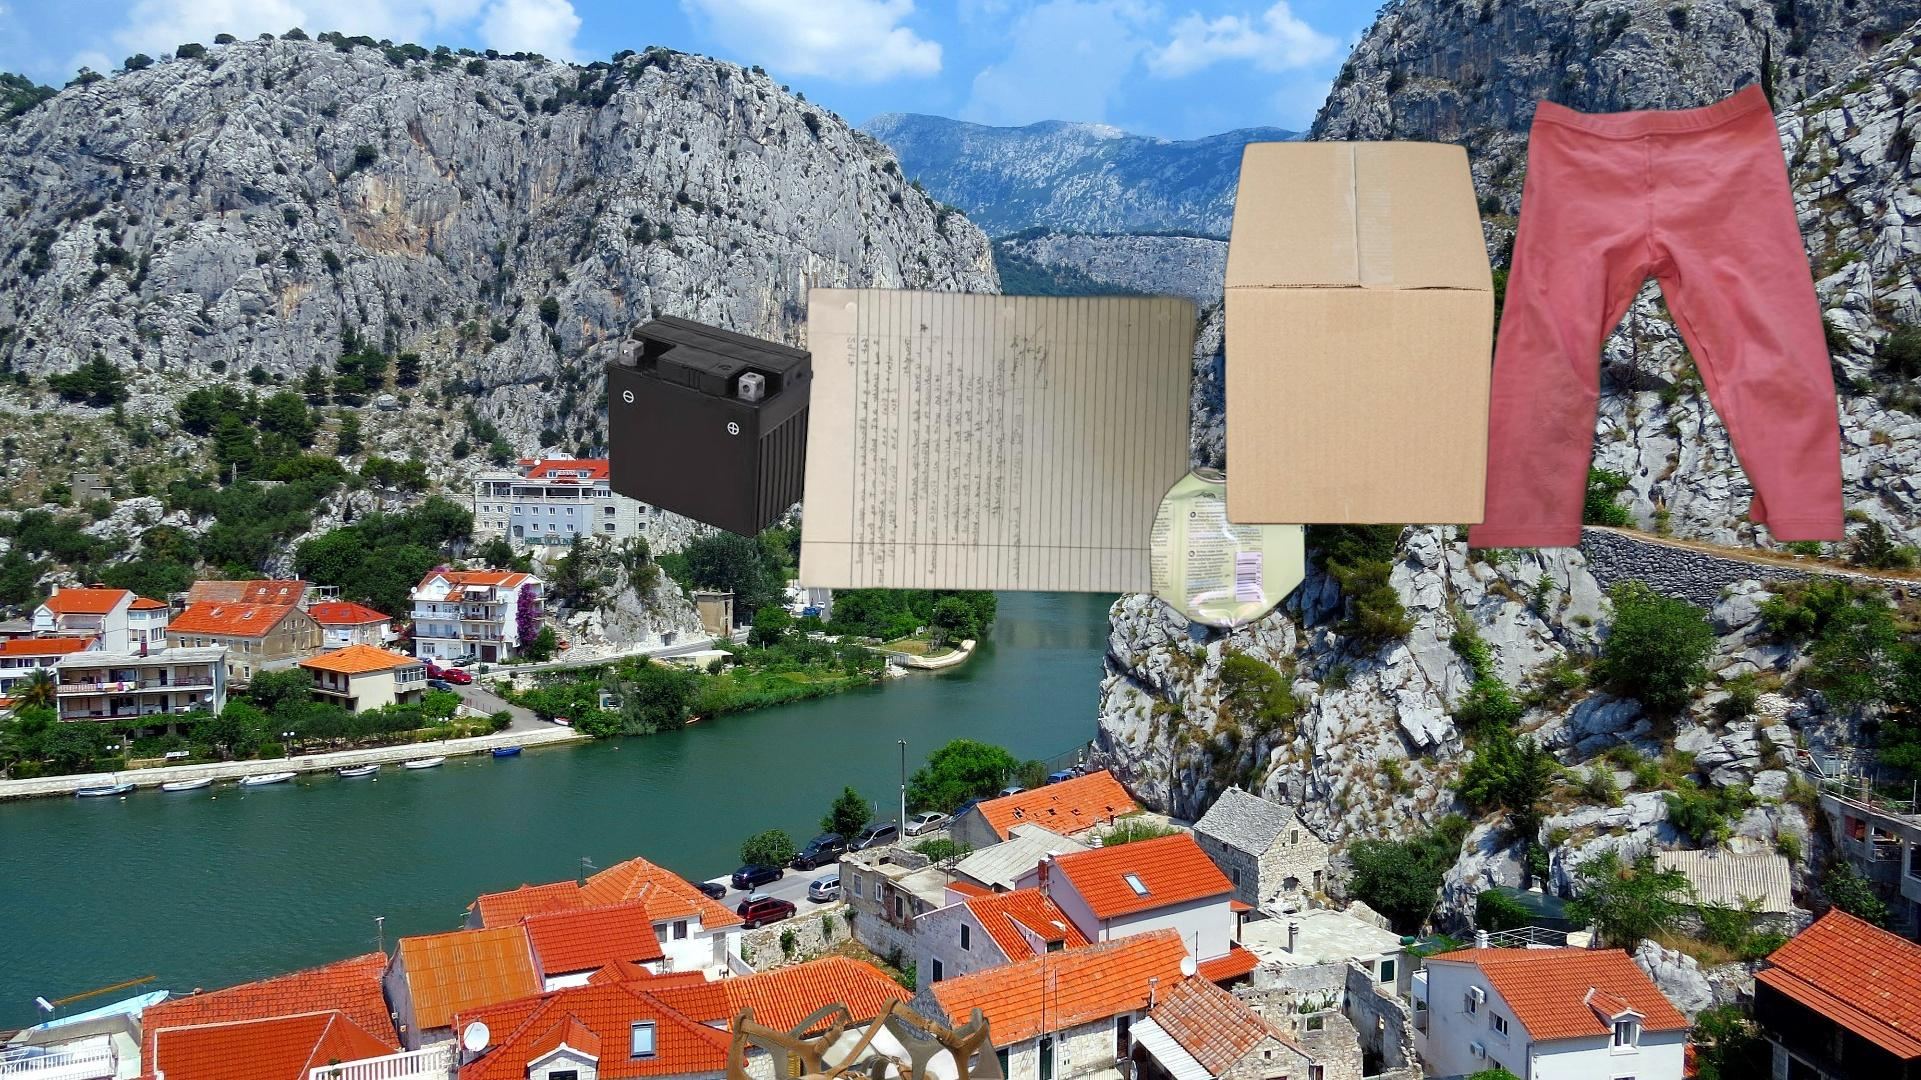battery: (603, 314, 815, 539)
clothes: (1461, 78, 1862, 612)
metal-cans: (1145, 460, 1309, 634)
paper: (794, 268, 1212, 599)
shoes: (722, 994, 1009, 1080)
trashbox-cardboard: (1219, 137, 1501, 529)
